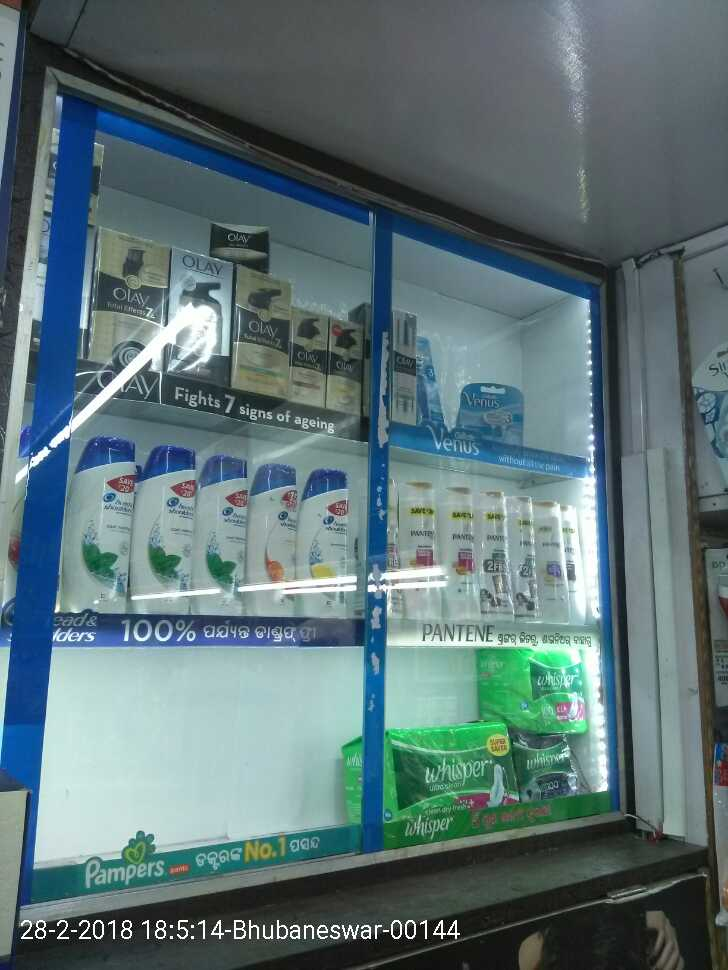venus: (457, 384, 523, 436), (415, 336, 445, 431)
